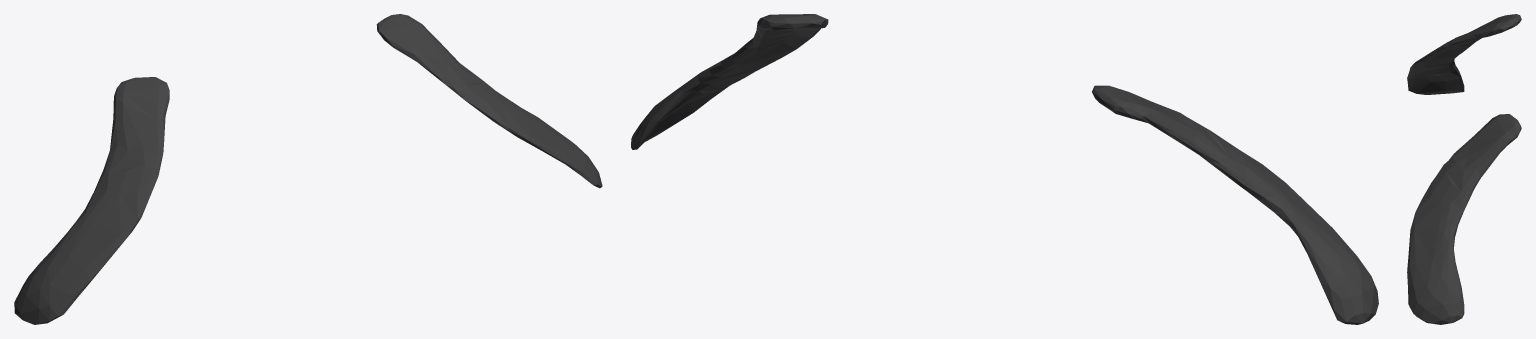
File: cartilage_scutiform.glb
3 views of the same model, side by side, from view 1: azimuth 30°, elevation 25°; view 2: azimuth 150°, elevation 25°; view 3: azimuth 270°, elevation 25° (orthographic). The views are drawn at different scales.
Parts seen in each view (by area): view 1: cartilage_scutiform; view 2: cartilage_scutiform; view 3: cartilage_scutiform.
Part boxes in pixels (x1,y1,x2,y2): cartilage_scutiform: [14, 14, 602, 324]; cartilage_scutiform: [631, 14, 1378, 324]; cartilage_scutiform: [1407, 14, 1521, 324].
Bounding box in the file's own units: 0.00205 × 0.000581 × 0.000427.
1 material, 1 textured.
